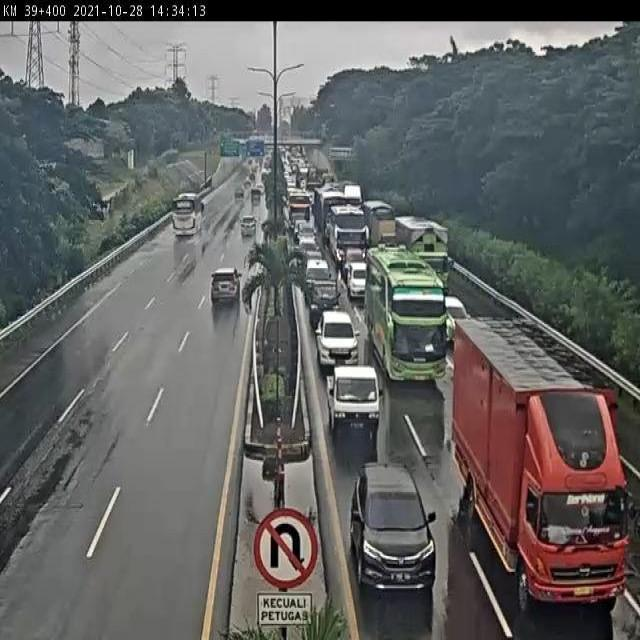big bus: (363, 245, 440, 375), (330, 208, 366, 265), (168, 195, 203, 241), (286, 190, 312, 230)
big truck: (454, 318, 640, 614), (392, 216, 453, 292), (319, 194, 345, 238), (370, 213, 398, 244)
car: (348, 464, 438, 597), (326, 367, 385, 441), (311, 306, 359, 362), (305, 276, 342, 323), (208, 265, 245, 311), (440, 294, 468, 338), (346, 261, 361, 295), (294, 221, 317, 243), (306, 258, 331, 278), (238, 213, 259, 236), (304, 242, 325, 258)
